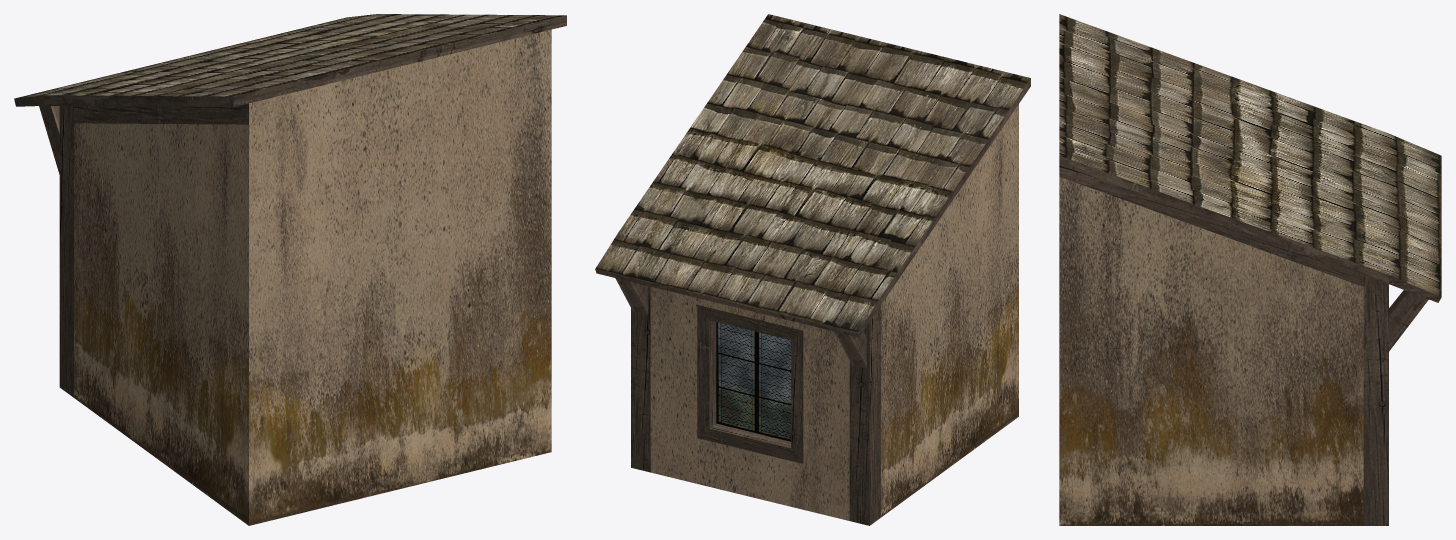
Rendered from f1_roofwin01.dae.
3 renders of one model, left to right at view 1: azimuth 30°, elevation 25°; view 2: azimuth 150°, elevation 25°; view 3: azimuth 270°, elevation 25°, orthographic. The views are drawn at different scales.
Parts seen in each view (by area): view 1: f1_roofwin01_Layer1; view 2: f1_roofwin01_Layer1; view 3: f1_roofwin01_Layer1.
Part boxes in pixels (box(x1,y1,x2,y2)): f1_roofwin01_Layer1: box(14, 14, 566, 525); f1_roofwin01_Layer1: box(595, 14, 1030, 525); f1_roofwin01_Layer1: box(1059, 14, 1441, 525).
Bounding box in the file's own units: 1.32 × 1.64 × 1.51.
